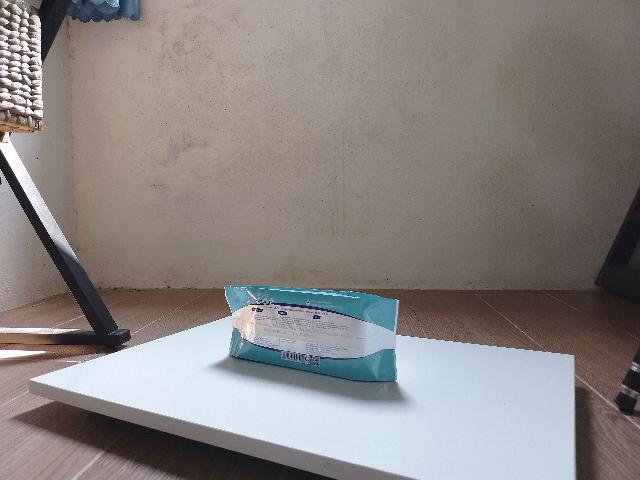Let-green_alcohol_wipes: (224, 285, 400, 382)
